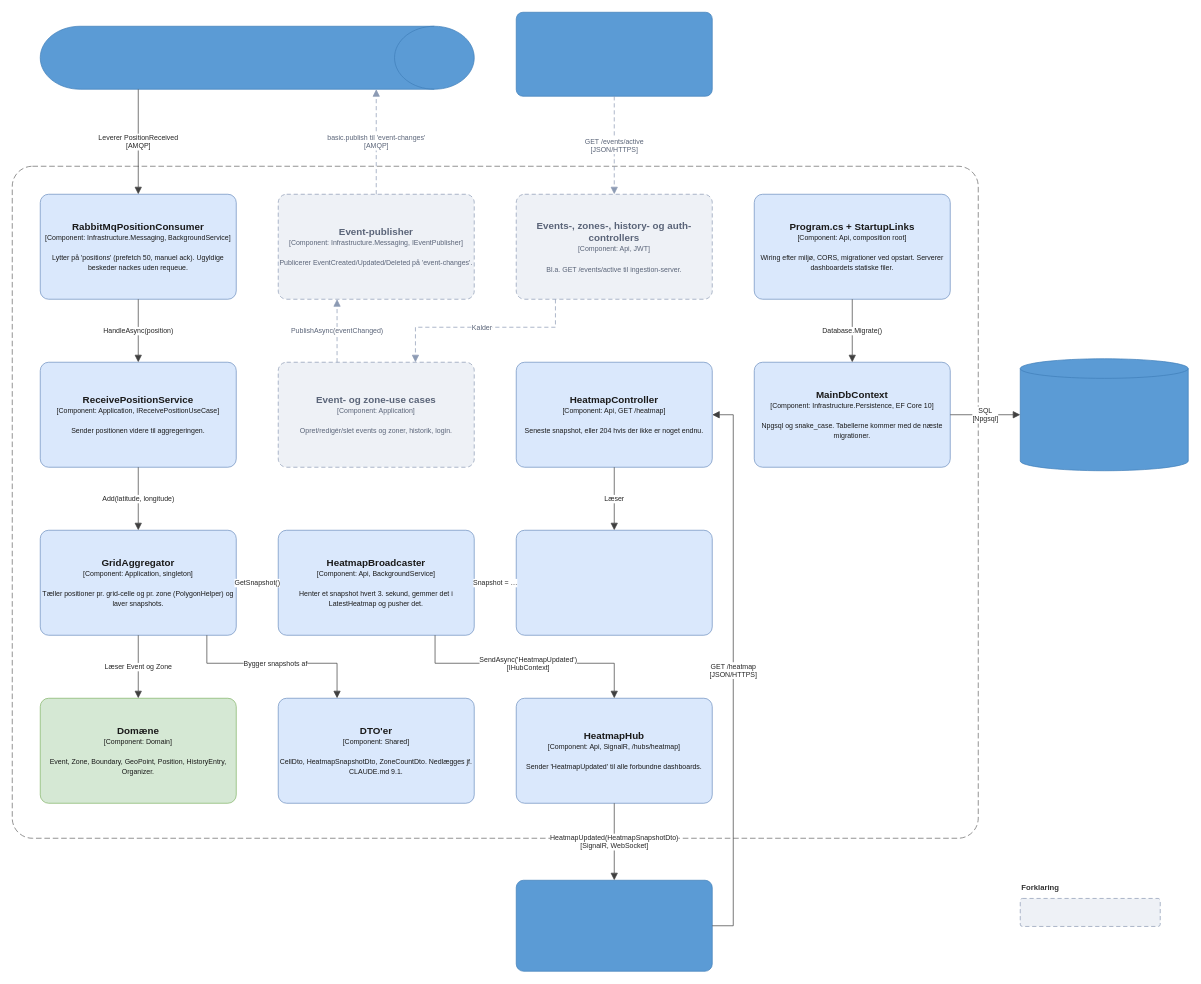
The diagram is 1201 pixels wide and 984 high, and some of its shapes have lost their labels. The box of each missing label's shape, as (x1, y1, x2, y2) in pixels:
Dashboard [Container: Blazor WebAssembly]: (516, 880, 712, 971)
Ingestion-server [Container: Java, Spring Boot]: (516, 12, 712, 96)
LatestHeatmap [Component: Api, singleton] Seneste HeatmapSnapshotDto.: (516, 530, 712, 635)
Main Database [Container: PostgreSQL 17]: (1020, 358, 1188, 471)
Message broker [Container: RabbitMQ 4]: (40, 26, 474, 89)
Processing-server [Container: C#, ASP.NET Core, .NET 10]: (12, 166, 978, 838)
Stiplet grå: planlagt (ikke implementeret endnu): (1020, 898, 1160, 926)
